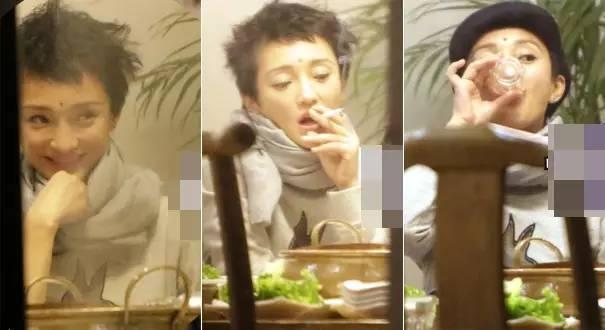smoking: (306, 103, 354, 131)
